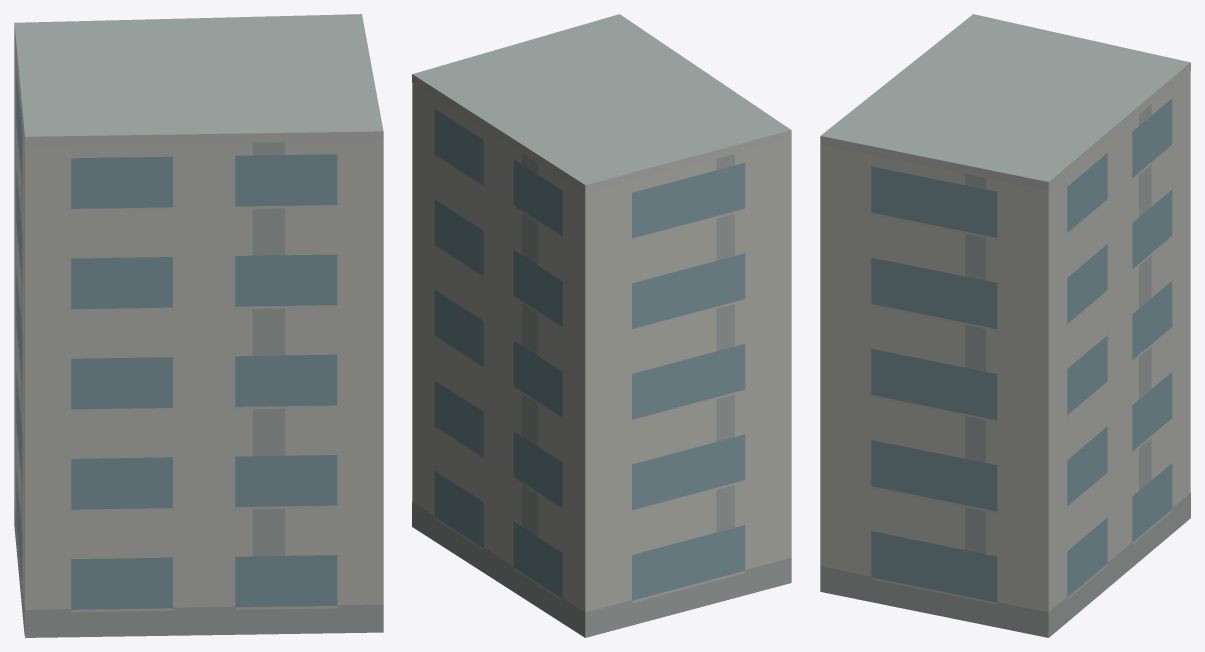
Rendered from survey-upis-32727960.glb.
3 views of the same model, side by side, from view 1: azimuth 30°, elevation 25°; view 2: azimuth 150°, elevation 25°; view 3: azimuth 270°, elevation 25° (orthographic). The views are drawn at different scales.
Parts seen in each view (by area): view 1: survey-upis-32727960.tmp; view 2: survey-upis-32727960.tmp; view 3: survey-upis-32727960.tmp.
Boxes of the visible parts, bbox=[...] form: survey-upis-32727960.tmp: bbox=[14, 14, 383, 637]; survey-upis-32727960.tmp: bbox=[412, 14, 791, 637]; survey-upis-32727960.tmp: bbox=[820, 14, 1190, 637].
Bounding box in the file's own units: 10.13 × 12.8 × 9.43.
